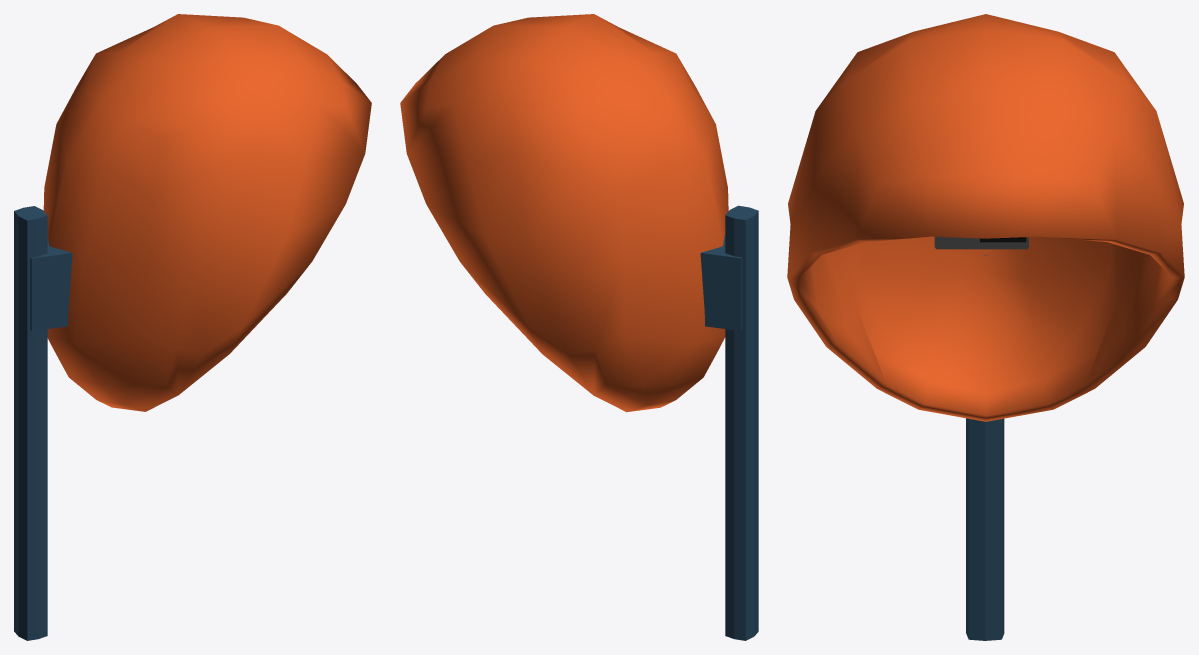
The model's file is big_ear.glb.
The picture shows the model from 3 angles, left to right: view 1: azimuth 30°, elevation 25°; view 2: azimuth 150°, elevation 25°; view 3: azimuth 270°, elevation 25°; orthographic projection. The views are drawn at different scales.
Visible parts, largest first — view 1: Cube.1232; view 2: Cube.1232; view 3: Cube.1232.
Boxes of the visible parts, left/top/right/bottom form: Cube.1232: left=14, top=14, right=371, bottom=640; Cube.1232: left=400, top=14, right=758, bottom=640; Cube.1232: left=787, top=14, right=1184, bottom=640.
Size of the model in its own units: 1.32 by 2.09 by 1.05.
